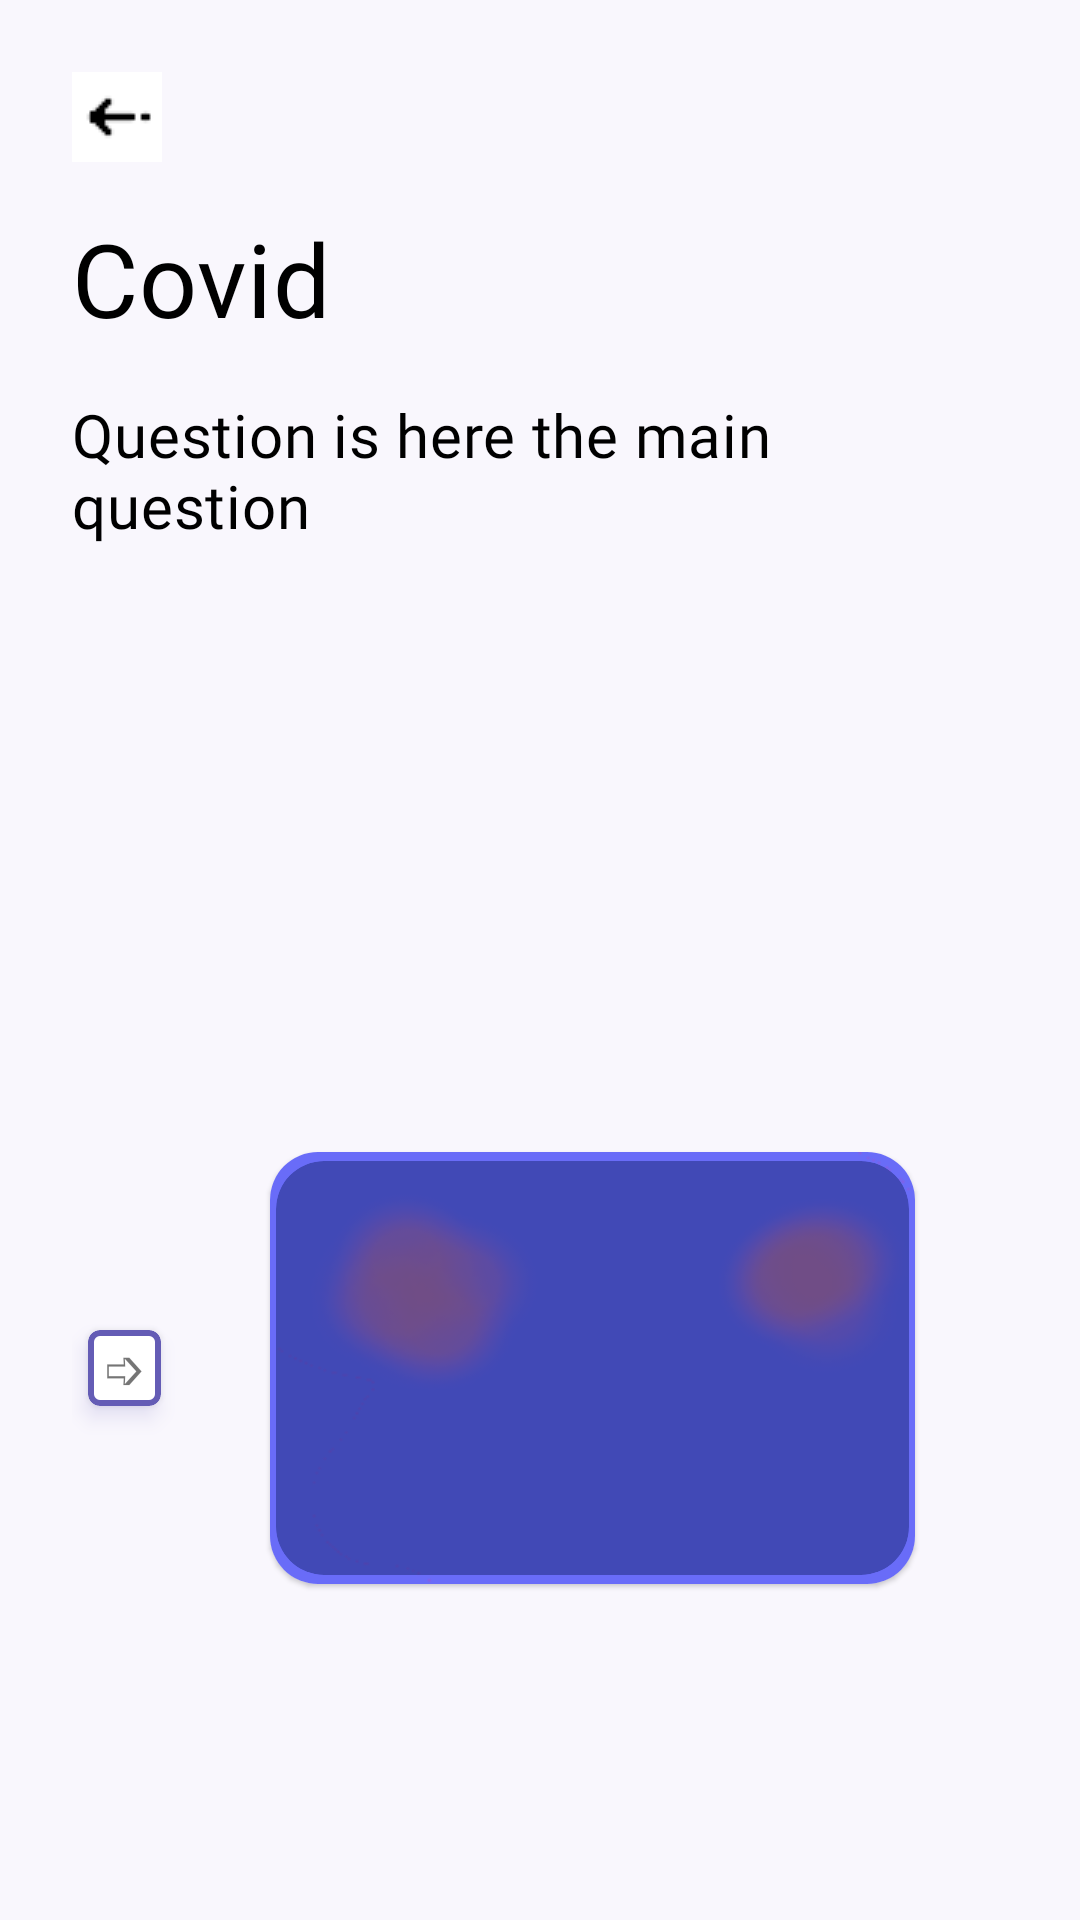

Named icons in this screenshot (1080*1920) and their bounding boxes, (x1=x1, y1=y1, x2=x2, y2=y2):
back: (x1=88, y1=98, x2=151, y2=136)
